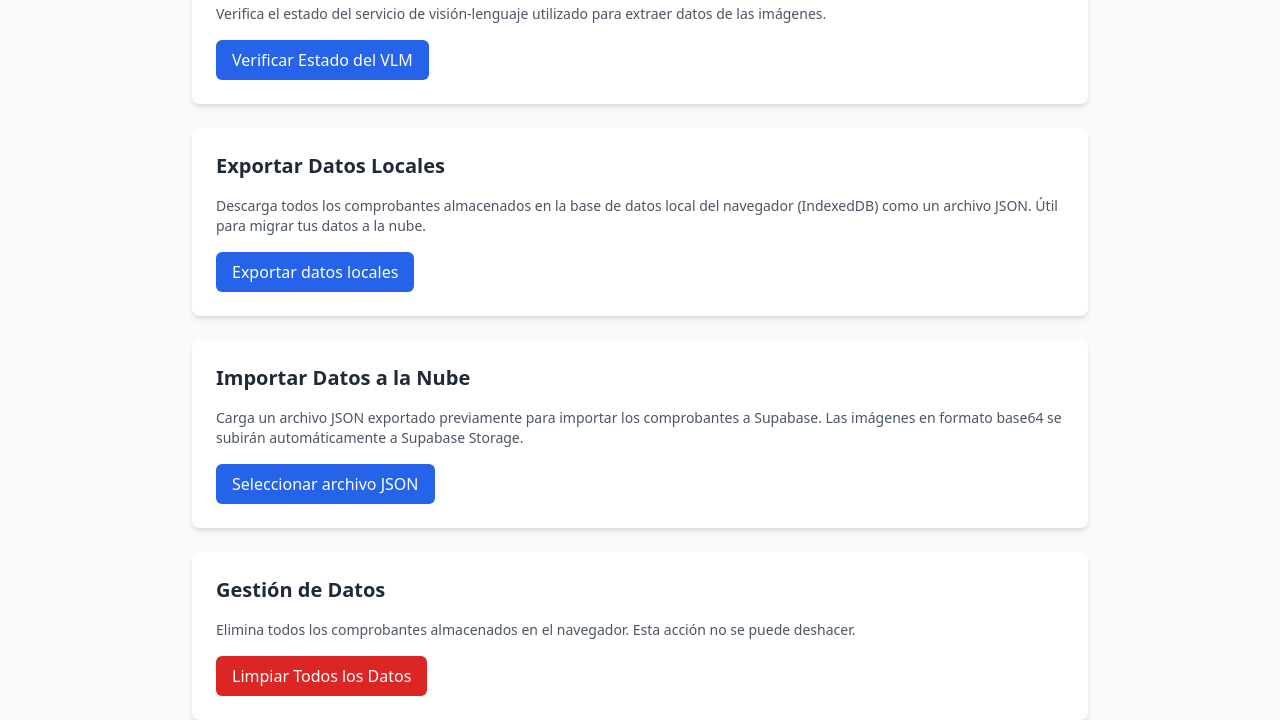
SettingsPage › opens confirmation modal when clicking clear data button
(page scrolled)
What coordinates should you click on to do the following:
click the button "Limpiar Todos los Datos"
I would click on:
 (322, 676)
Its box is x1=216 y1=656 x2=427 y2=696.
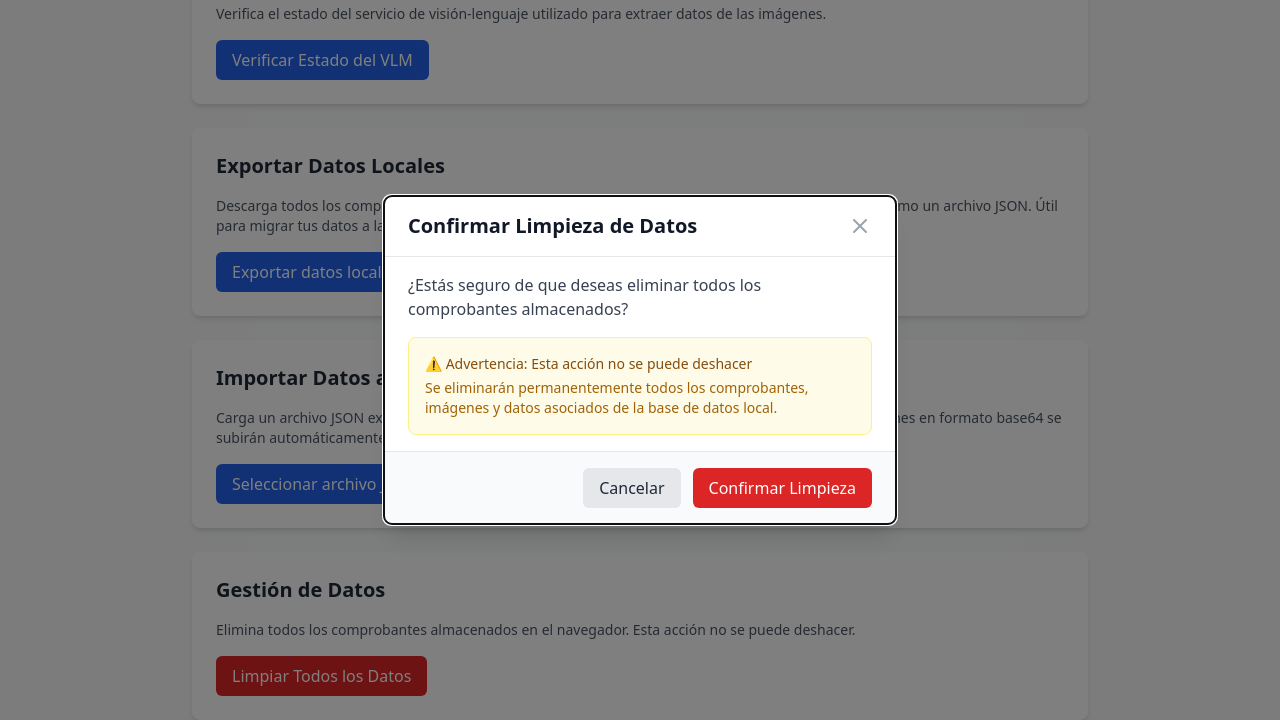
Now the heading "Confirmar Limpieza de Datos" is shown, box x1=408 y1=212 x2=697 y2=240
Now the text "¿Estás seguro de que deseas eliminar todos los comprobantes" is shown, box x1=408 y1=274 x2=761 y2=320
Now the text "⚠️ Advertencia: Esta acción no se puede deshacer" is shown, box x1=425 y1=354 x2=752 y2=373
